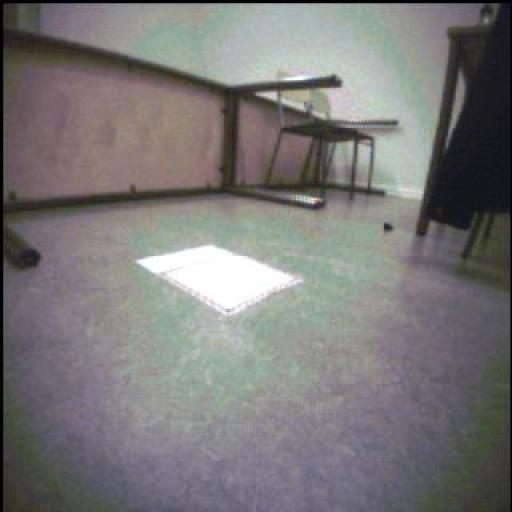Pad: (139, 246, 304, 316)
